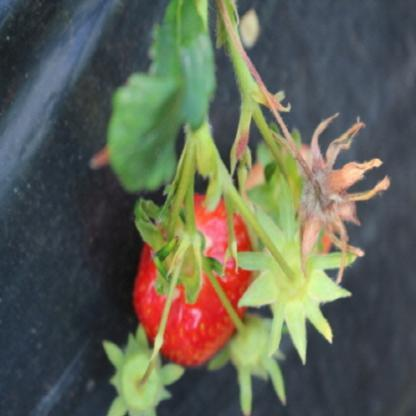Strawberry_Gray_Mold: (297, 112, 392, 284)
